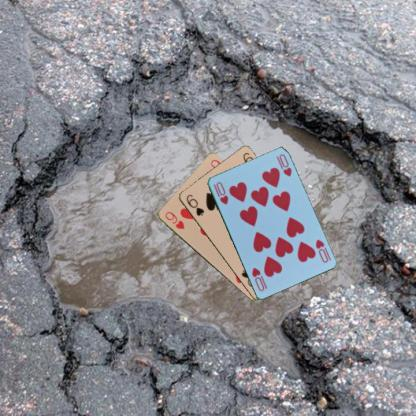10h: (210, 179, 230, 206), (312, 236, 330, 264)
6s: (183, 192, 205, 217)
9h: (161, 208, 186, 230)
